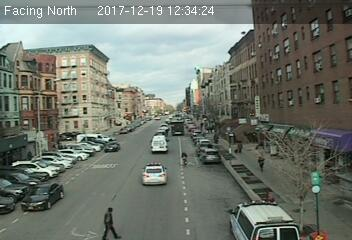bicycle: (179, 150, 191, 168)
car: (24, 181, 62, 212), (199, 148, 222, 163), (105, 140, 120, 151)
pedestrian: (101, 205, 119, 240)
police: (228, 197, 306, 239), (140, 162, 169, 187)
truck: (151, 134, 169, 153)
ups: (170, 120, 185, 136)
